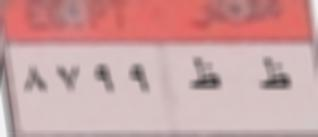7: (52, 60, 86, 99)
8: (20, 62, 48, 100)
9: (122, 63, 157, 99), (91, 59, 116, 100)
Thaa: (252, 47, 292, 105), (182, 53, 223, 99)
